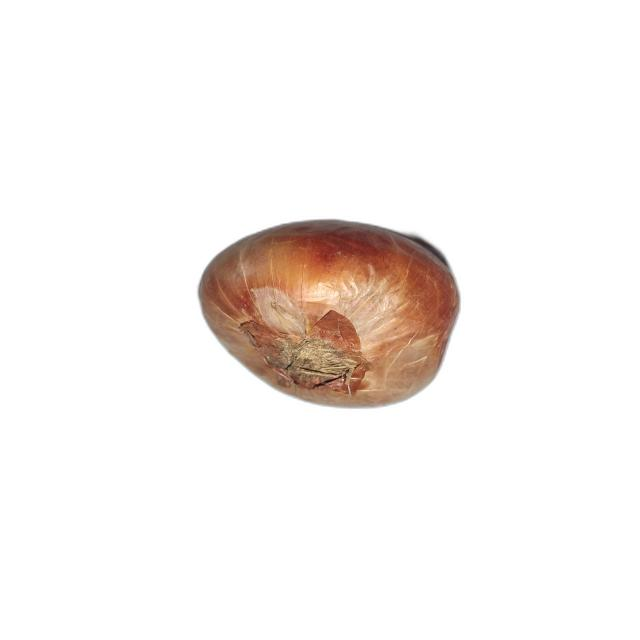onion: (196, 219, 462, 410)
